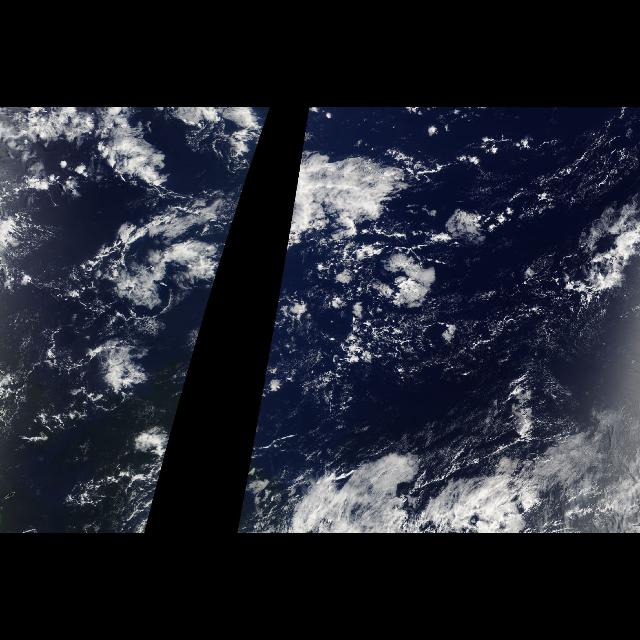Flower: (15, 112, 271, 328), (274, 112, 462, 328)
